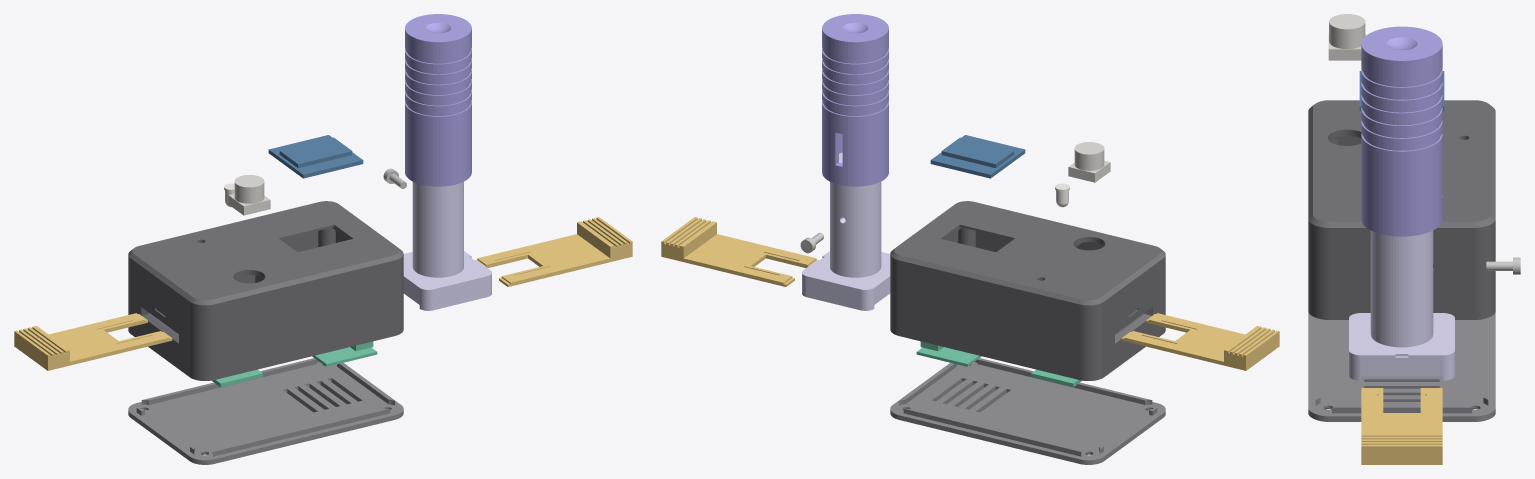
File: blotly-exploded.glb
3 views of the same model, side by side, from view 1: azimuth 30°, elevation 25°; view 2: azimuth 150°, elevation 25°; view 3: azimuth 270°, elevation 25° (orthographic). The views are drawn at different scales.
Parts seen in each view (by area): view 1: Base body, Bottom plate, Sampler sleeve, Piston + foot, Cassette (sampling), Cassette (reading), 0.96" OLED, Tactile button, ESP32-C3 SuperMini; view 2: Base body, Bottom plate, Sampler sleeve, Piston + foot, Cassette (sampling), Cassette (reading), 0.96" OLED, Tactile button, ESP32-C3 SuperMini; view 3: Base body, Sampler sleeve, Piston + foot, Bottom plate, Cassette (sampling), Tactile button, M3 peg screw, 0.96" OLED.
Part boxes in pixels (left/top/right/bottom): Base body: left=128, top=201, right=403, bottom=380; Bottom plate: left=128, top=358, right=403, bottom=464; Sampler sleeve: left=405, top=14, right=471, bottom=186; Piston + foot: left=403, top=182, right=491, bottom=310; Cassette (sampling): left=475, top=217, right=632, bottom=286; Cassette (reading): left=14, top=313, right=172, bottom=370; 0.96" OLED: left=268, top=135, right=363, bottom=178; Tactile button: left=228, top=175, right=270, bottom=215; ESP32-C3 SuperMini: left=312, top=341, right=377, bottom=366; Base body: left=890, top=201, right=1165, bottom=380; Bottom plate: left=890, top=358, right=1165, bottom=464; Sampler sleeve: left=822, top=14, right=888, bottom=186; Piston + foot: left=802, top=152, right=890, bottom=310; Cassette (sampling): left=661, top=217, right=818, bottom=286; Cassette (reading): left=1121, top=313, right=1279, bottom=370; 0.96" OLED: left=930, top=135, right=1025, bottom=178; Tactile button: left=1068, top=142, right=1110, bottom=182; ESP32-C3 SuperMini: left=916, top=341, right=981, bottom=366; Base body: left=1308, top=100, right=1495, bottom=319; Sampler sleeve: left=1361, top=26, right=1442, bottom=236; Piston + foot: left=1349, top=230, right=1454, bottom=380; Bottom plate: left=1308, top=312, right=1495, bottom=421; Cassette (sampling): left=1361, top=388, right=1442, bottom=464; Tactile button: left=1328, top=14, right=1365, bottom=60; M3 peg screw: left=1486, top=257, right=1520, bottom=274; 0.96" OLED: left=1359, top=71, right=1444, bottom=111.
Size of the model in its own units: 0.2627 by 0.1475 by 0.068.
